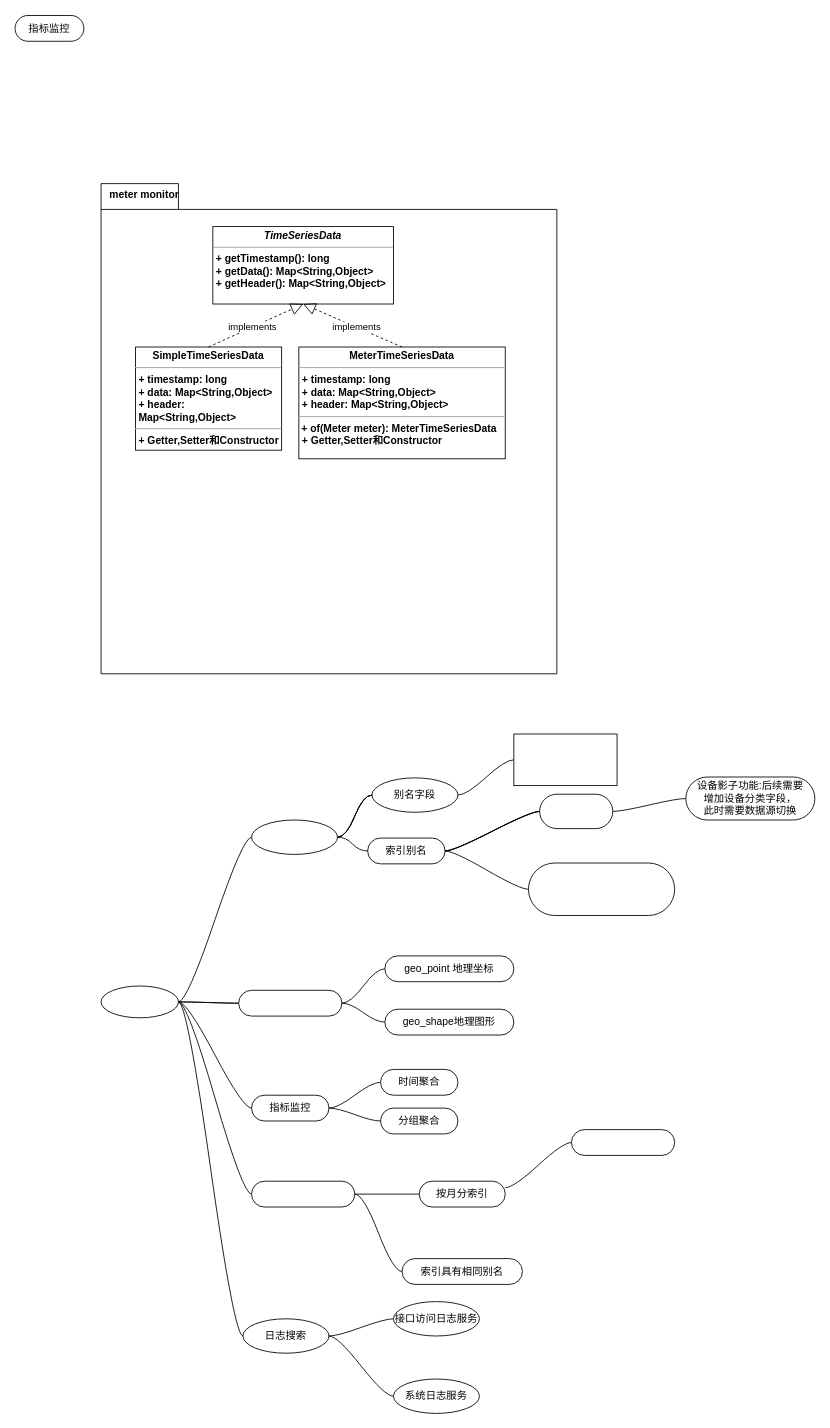
Some shapes in this 830 by 1428 pixel diagram are drawn without their labels. Each missing label, with the box of its shape:
1. 使用于不同索引不同字段相同别名，可用于统计，搜索: (513, 733, 617, 786)
Alias别名应用: (251, 819, 338, 854)
ElasticSearch: (100, 985, 178, 1018)
Geo 地理位置: (238, 989, 342, 1016)
时序数据存储: (251, 1180, 355, 1207)
用于数据归类： 比如时序数据按月分索引， 将所有的索引指定相同的别名: (528, 862, 675, 915)
用于索引 数据源切换: (539, 793, 613, 829)
索引存储结构: (571, 1129, 675, 1155)
